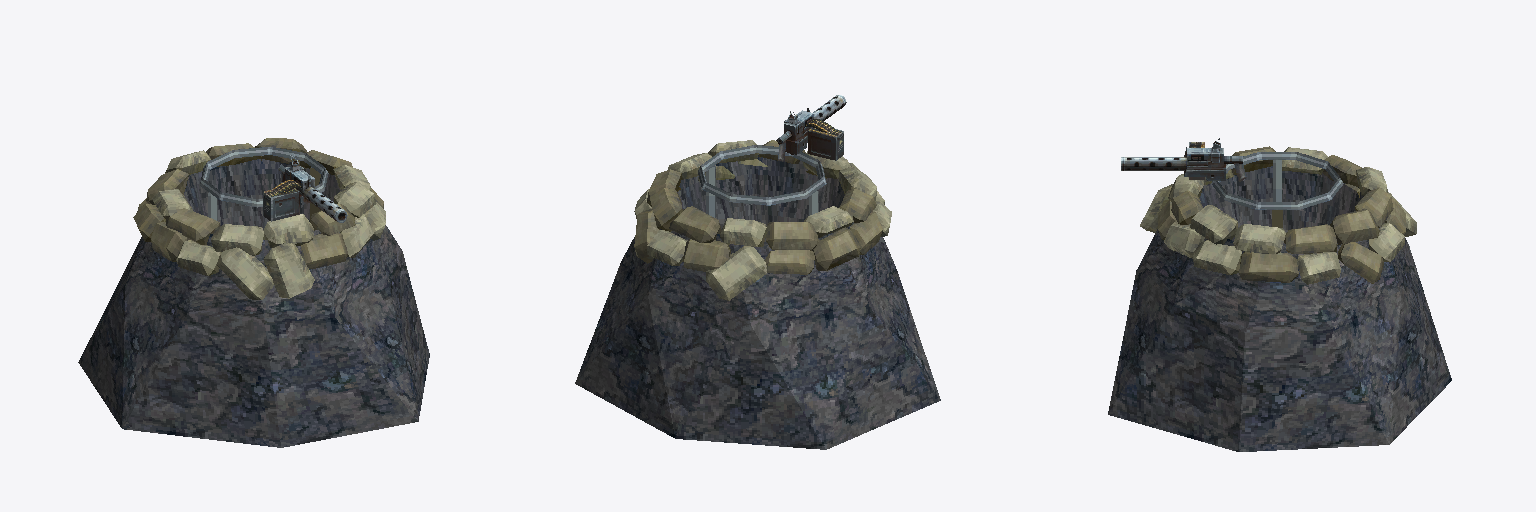
3 views of the same model, side by side, from view 1: azimuth 30°, elevation 25°; view 2: azimuth 150°, elevation 25°; view 3: azimuth 270°, elevation 25° (orthographic).
Visible parts, largest first — view 1: Node 0, Node 10, Node 8, Node 11, Node 3, Node 9; view 2: Node 0, Node 9, Node 8, Node 3, Node 10, Node 11; view 3: Node 0, Node 8, Node 10, Node 9, Node 3.
Part boxes in pixels (x1,y1,x2,y2): Node 0: (78, 159, 429, 447); Node 10: (263, 182, 385, 298); Node 8: (200, 138, 383, 230); Node 11: (211, 224, 273, 299); Node 3: (263, 154, 347, 222); Node 9: (137, 143, 261, 211); Node 0: (575, 155, 940, 449); Node 9: (647, 206, 814, 300); Node 8: (634, 145, 826, 263); Node 3: (776, 95, 846, 161); Node 10: (698, 140, 858, 181); Node 11: (839, 166, 884, 204); Node 0: (1108, 146, 1451, 451); Node 8: (1212, 152, 1383, 284); Node 10: (1140, 174, 1241, 274); Node 9: (1345, 167, 1416, 261); Node 3: (1121, 138, 1246, 181).
Size of the model in its own units: 5.7 by 4.31 by 5.54.
Materials: 15 (4 with a texture image).